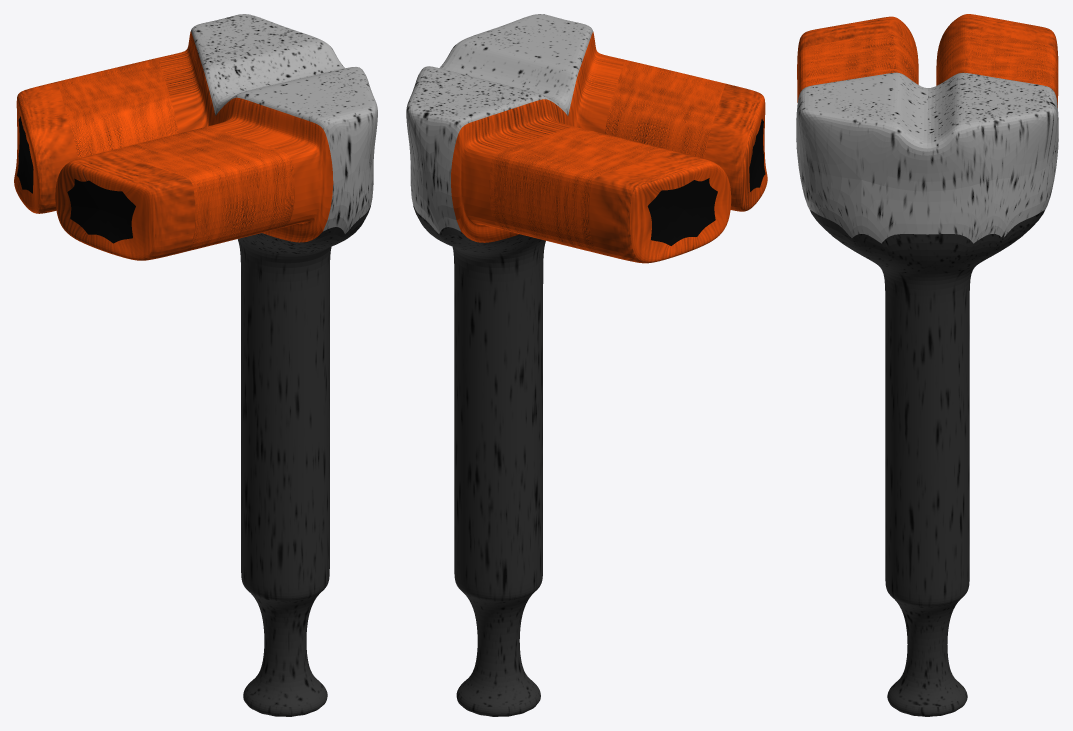
File: Camera.fbx
The picture shows the model from 3 angles, left to right: view 1: azimuth 30°, elevation 25°; view 2: azimuth 150°, elevation 25°; view 3: azimuth 270°, elevation 25°; orthographic projection. The views are drawn at different scales.
Visible parts, largest first — view 1: Gun; view 2: Gun; view 3: Gun.
Part boxes in pixels (x1=…): Gun: x1=14, y1=14, x2=377, y2=716; Gun: x1=406, y1=14, x2=767, y2=716; Gun: x1=796, y1=14, x2=1058, y2=716.
Bounding box in the file's own units: 25.55 × 51.24 × 20.1.
